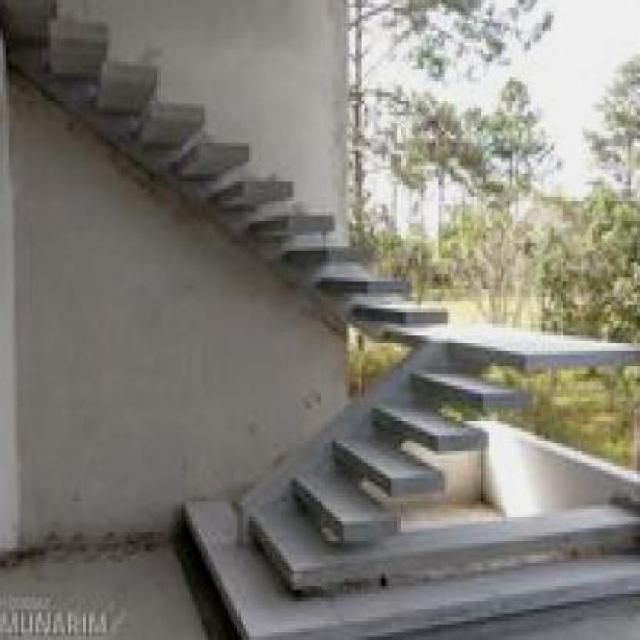stair: (145, 308, 637, 632)
